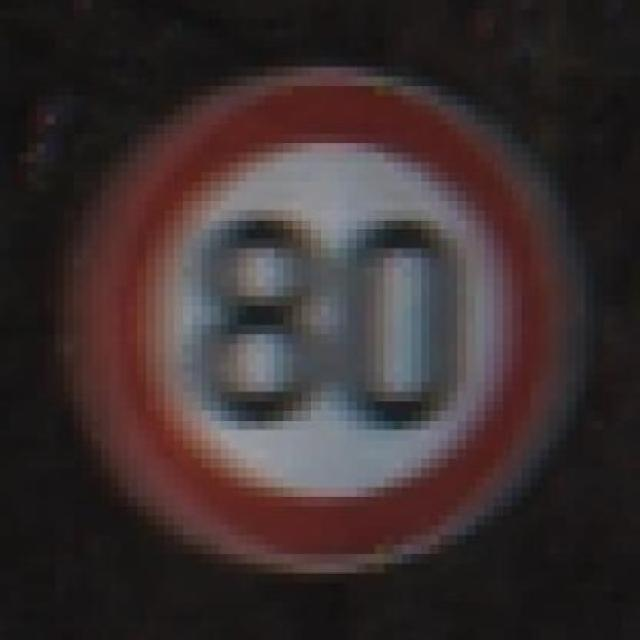forb_speed_over_80: (93, 69, 564, 566)
